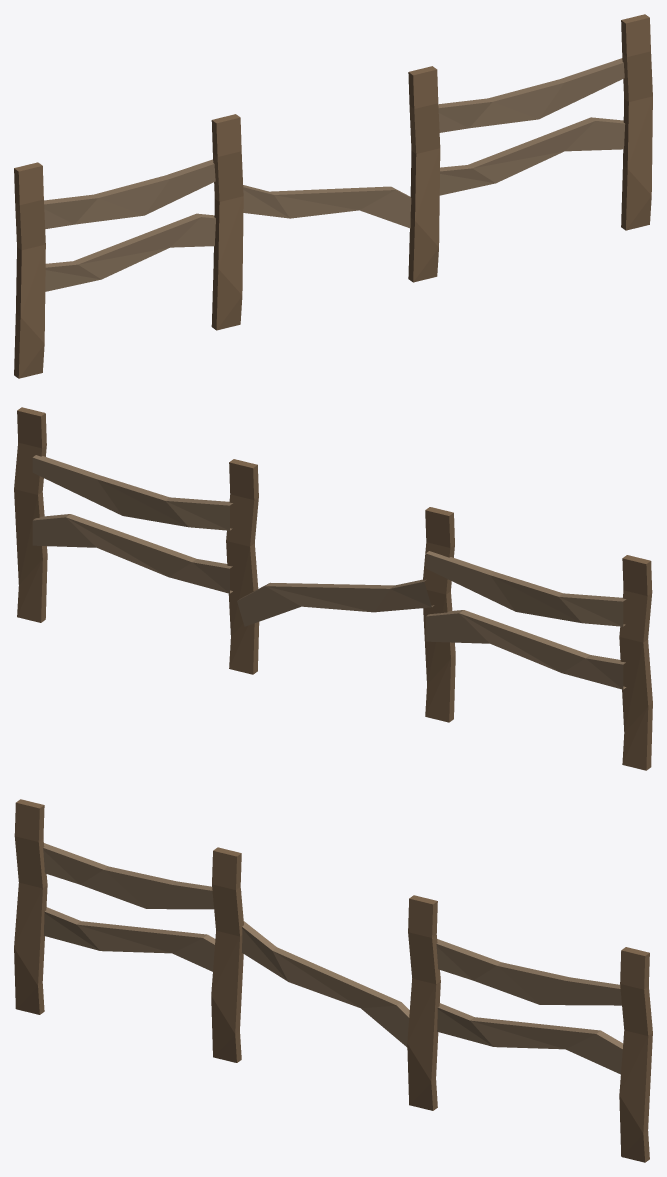
Rendered from Fence.fbx.
3 views of the same model, one above another, from view 1: azimuth 30°, elevation 25°; view 2: azimuth 150°, elevation 25°; view 3: azimuth 330°, elevation 25° (orthographic).
Visible parts, largest first — view 1: Fence; view 2: Fence; view 3: Fence.
Boxes of the visible parts, x1,y1,x2,y2 form: Fence: (14, 14, 652, 378); Fence: (14, 407, 652, 770); Fence: (14, 799, 652, 1162).
Bounding box in the file's own units: 184 × 57.43 × 5.45.
1 material, 1 textured.
